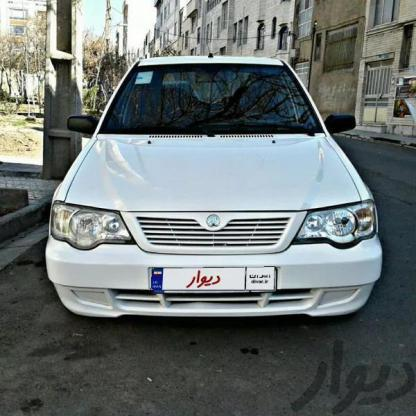Car: (46, 42, 391, 333)
